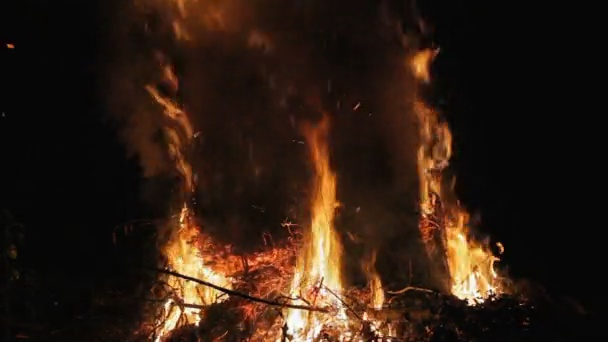fire: (415, 103, 513, 303), (275, 143, 357, 342), (153, 215, 233, 341), (364, 278, 396, 342)
